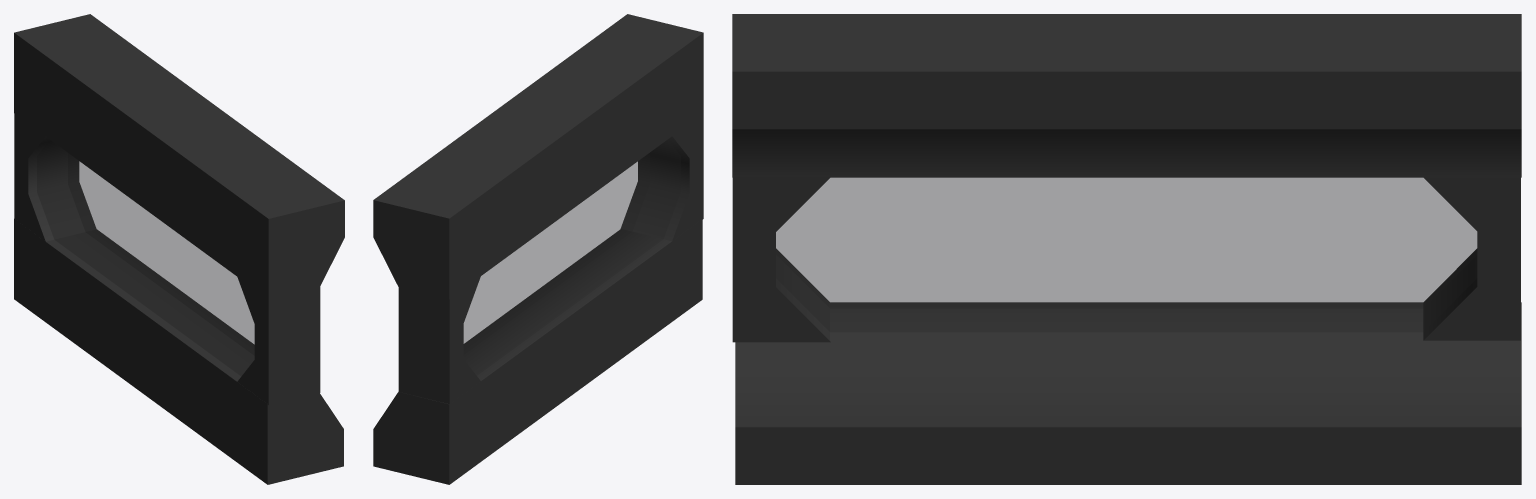
File: Window D1.FBX
3 views of the same model, side by side, from view 1: azimuth 30°, elevation 25°; view 2: azimuth 150°, elevation 25°; view 3: azimuth 270°, elevation 25° (orthographic). The views are drawn at different scales.
Parts seen in each view (by area): view 1: Top, Bottom, Window, Side (×2); view 2: Top, Bottom, Window, Side (×2); view 3: Bottom, Top, Window, Side (×2).
Boxes of the visible parts, box(x1,y1,x2,y2) form: Top: box(14, 14, 344, 299); Bottom: box(14, 219, 343, 484); Window: box(37, 140, 254, 375); Side (×2): box(14, 114, 320, 405); Top: box(373, 14, 703, 299); Bottom: box(373, 219, 702, 484); Window: box(464, 140, 680, 374); Side (×2): box(398, 113, 703, 403); Bottom: box(735, 302, 1521, 484); Top: box(732, 14, 1521, 177); Window: box(776, 178, 1476, 331); Side (×2): box(732, 177, 1520, 342).
Size of the model in its own units: 20.69 by 69.13 by 120.
